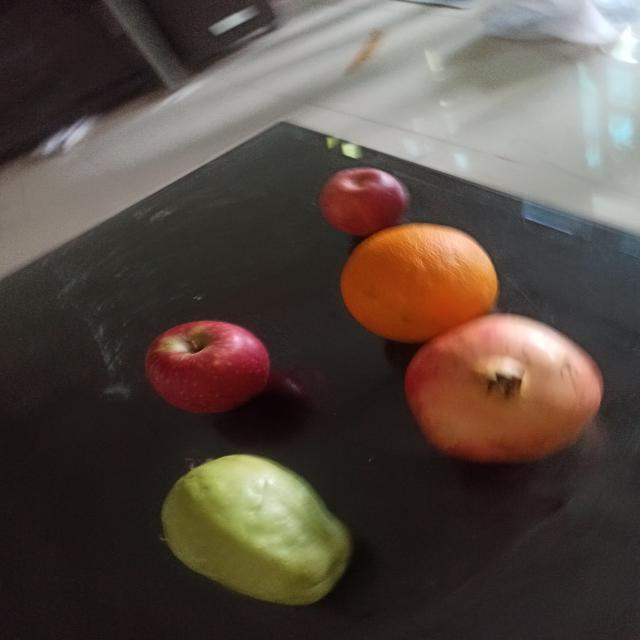apple: (144, 318, 271, 414), (319, 165, 411, 236)
